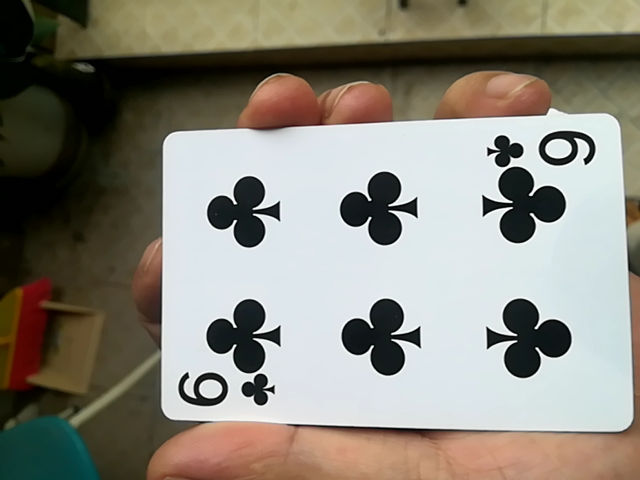mh 6: (150, 110, 629, 443)
